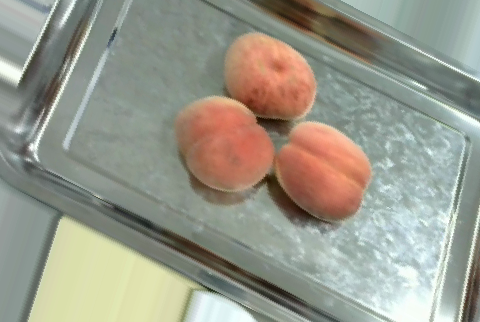Peach: (175, 94, 275, 191), (276, 122, 372, 219), (224, 30, 317, 120)
